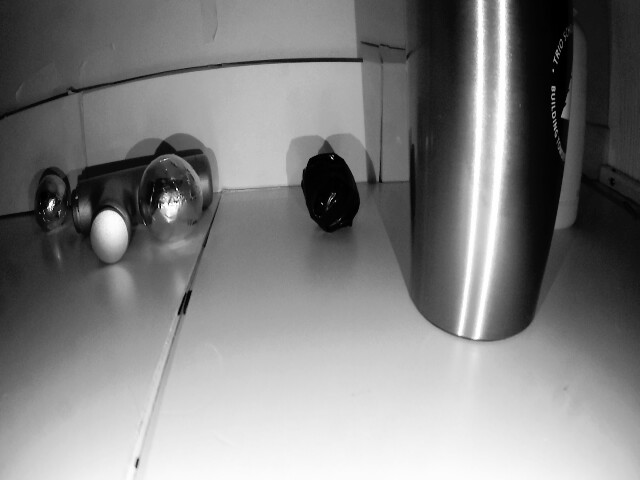black: (132, 151, 198, 244), (27, 169, 78, 235)
silver: (298, 150, 361, 227)
